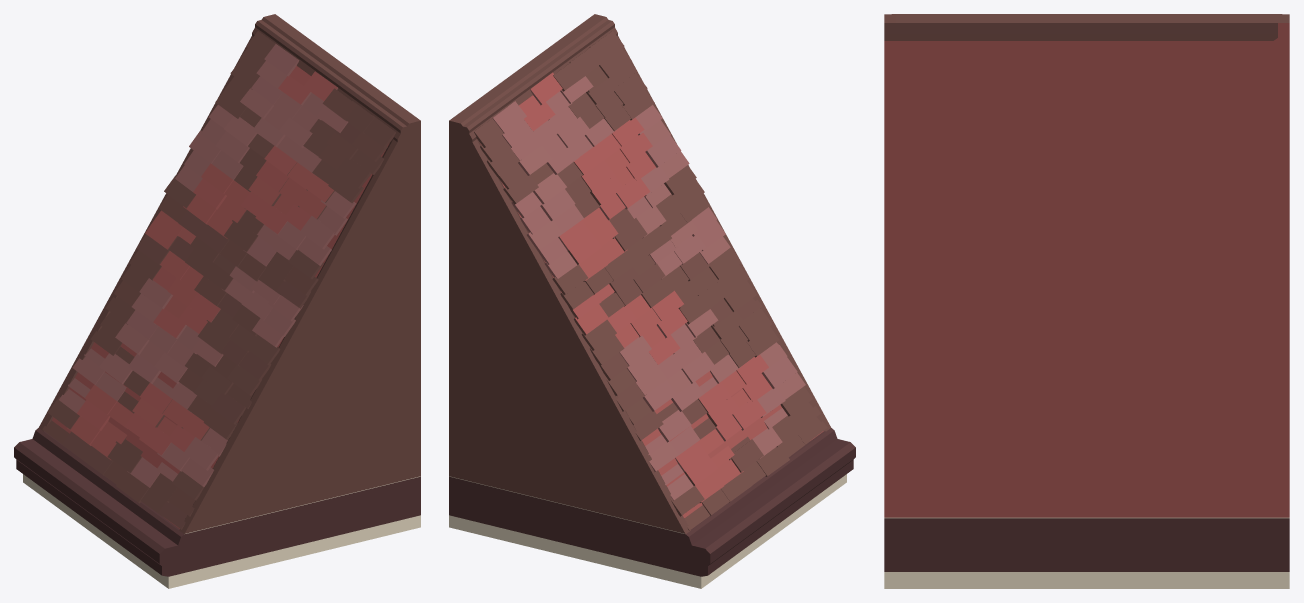
Rendered from Roof_Side_1_S.fbx.
The picture shows the model from 3 angles, left to right: view 1: azimuth 30°, elevation 25°; view 2: azimuth 150°, elevation 25°; view 3: azimuth 270°, elevation 25°; orthographic projection. The views are drawn at different scales.
Parts seen in each view (by area): view 1: Roof_Side_1_S; view 2: Roof_Side_1_S; view 3: Roof_Side_1_S.
Boxes of the visible parts, <box> form: Roof_Side_1_S: <box>14,14,420,588</box>; Roof_Side_1_S: <box>449,14,855,588</box>; Roof_Side_1_S: <box>884,14,1289,588</box>.
Size of the model in its own units: 207 by 200 by 308.
